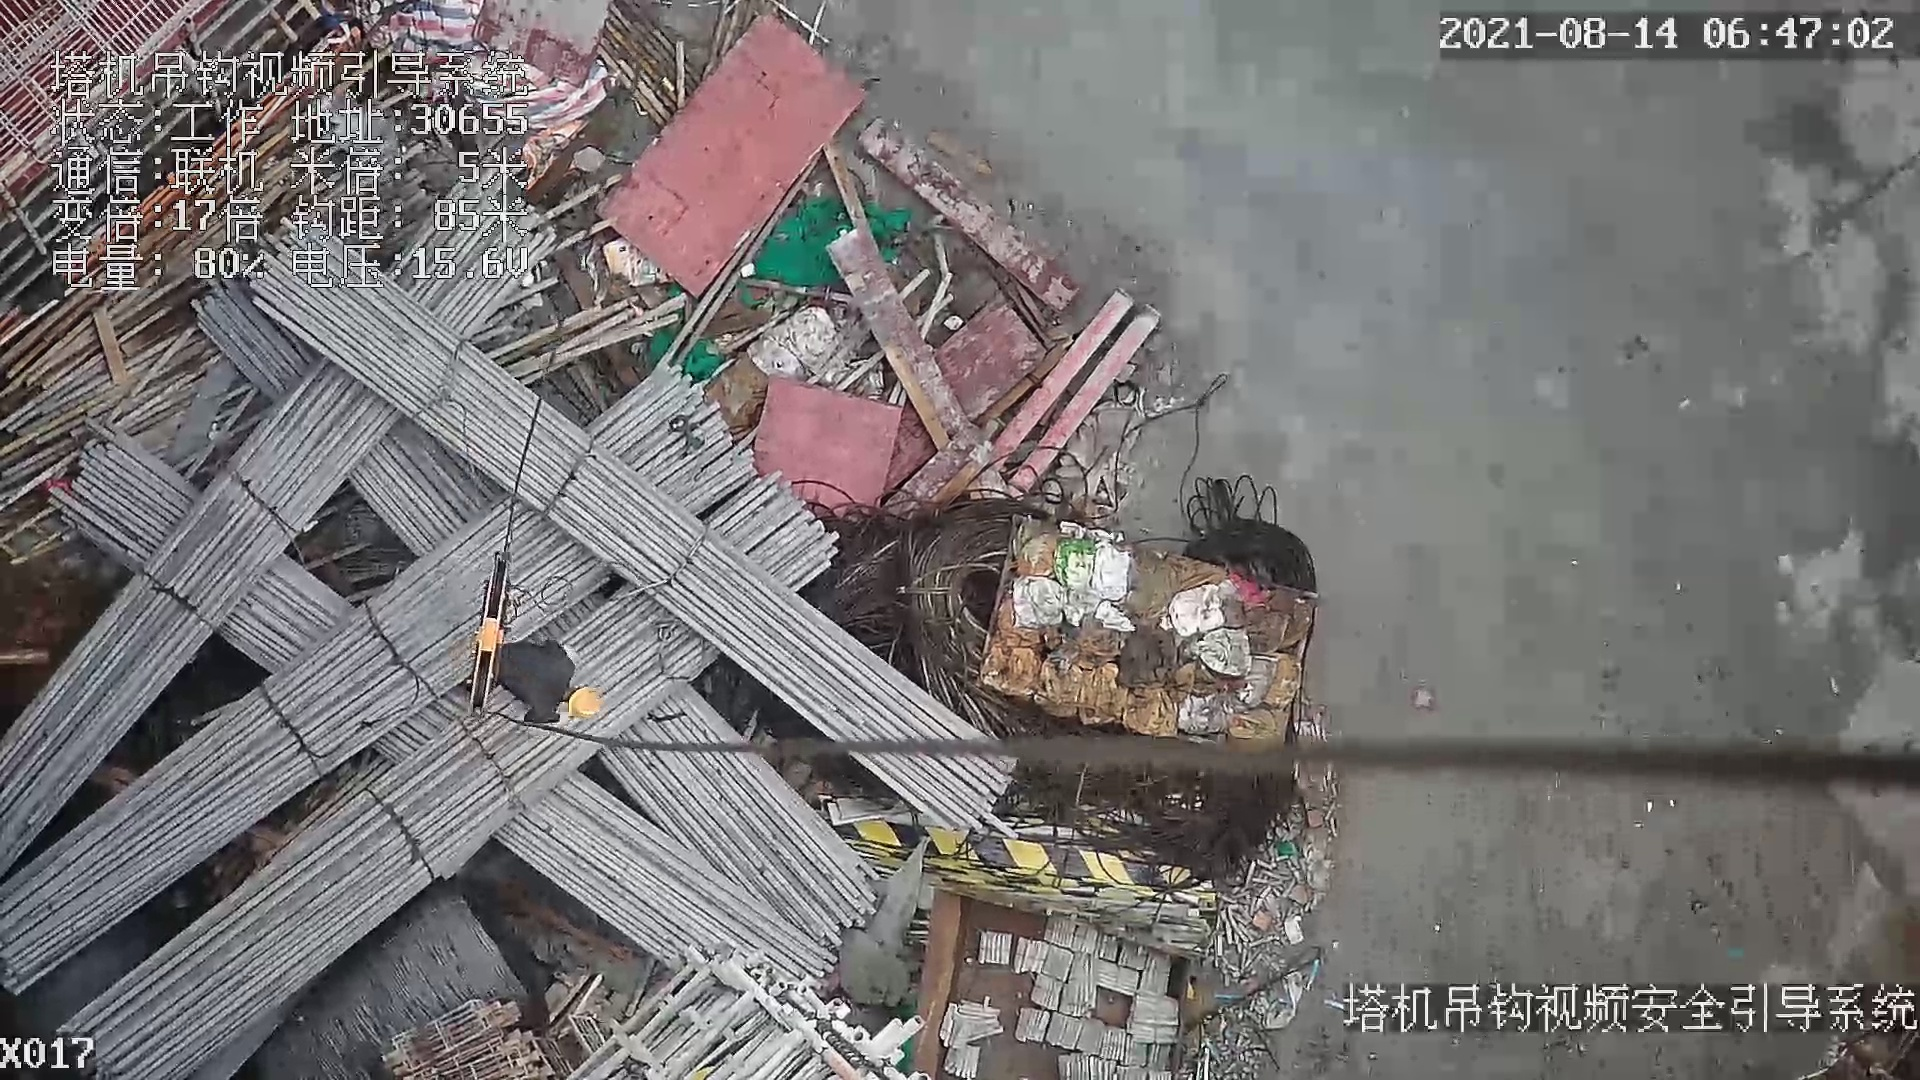board: (595, 20, 848, 280)
helmet: (570, 689, 600, 726)
hook: (458, 546, 518, 724)
person: (490, 623, 604, 747)
